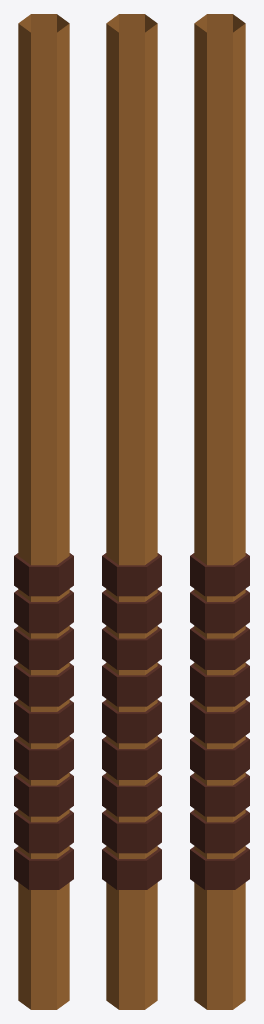
The model's file is Axe_Double_Handle.glb.
The picture shows the model from 3 angles, left to right: view 1: azimuth 30°, elevation 25°; view 2: azimuth 150°, elevation 25°; view 3: azimuth 330°, elevation 25°; orthographic projection.
Parts seen in each view (by area): view 1: Axe_Double_Handle; view 2: Axe_Double_Handle; view 3: Axe_Double_Handle.
Part boxes in pixels (x1,y1,x2,y2): Axe_Double_Handle: (14,14,73,1009); Axe_Double_Handle: (102,14,161,1009); Axe_Double_Handle: (190,14,249,1009).
Bounding box in the file's own units: 0.0404 × 0.8385 × 0.0466.
